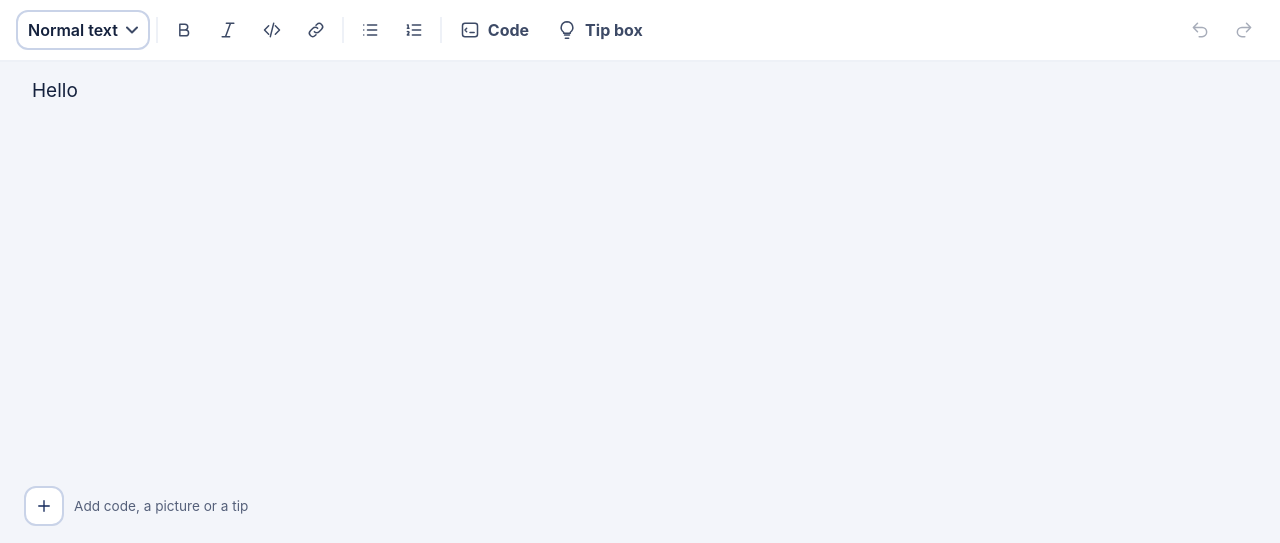
Test: NoteEditor › closes the menu with Escape
Click the button named "Add code, a picture or a tip" at point(44, 506), box [24,486,64,526]
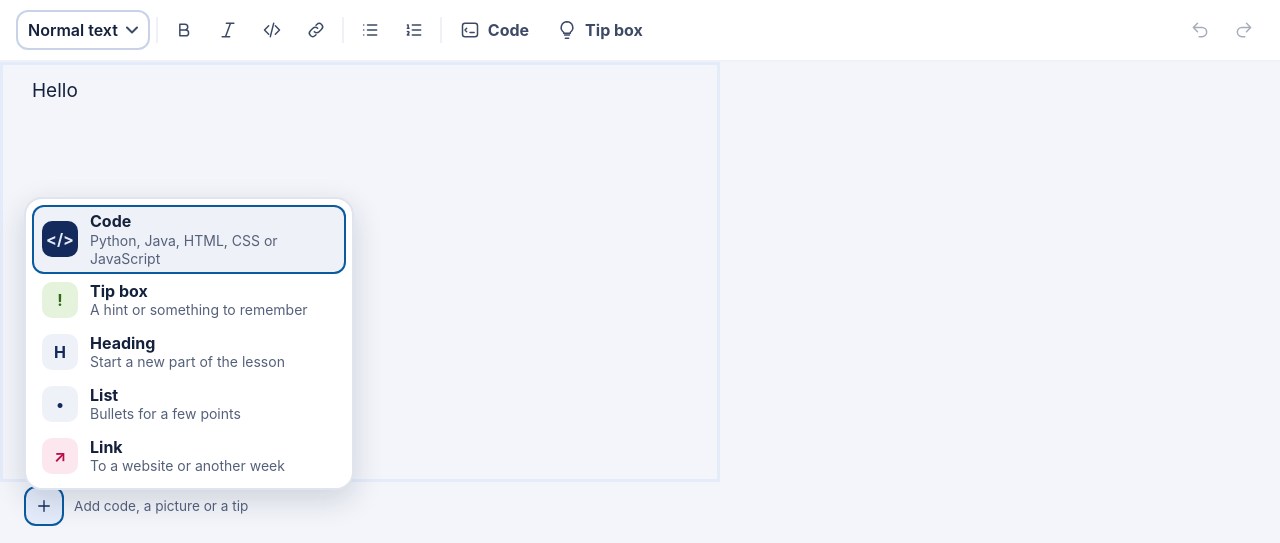
Press Escape in the menu item "</> Code Python, Java, HTML, CSS or JavaScript", box [32,205,346,274]
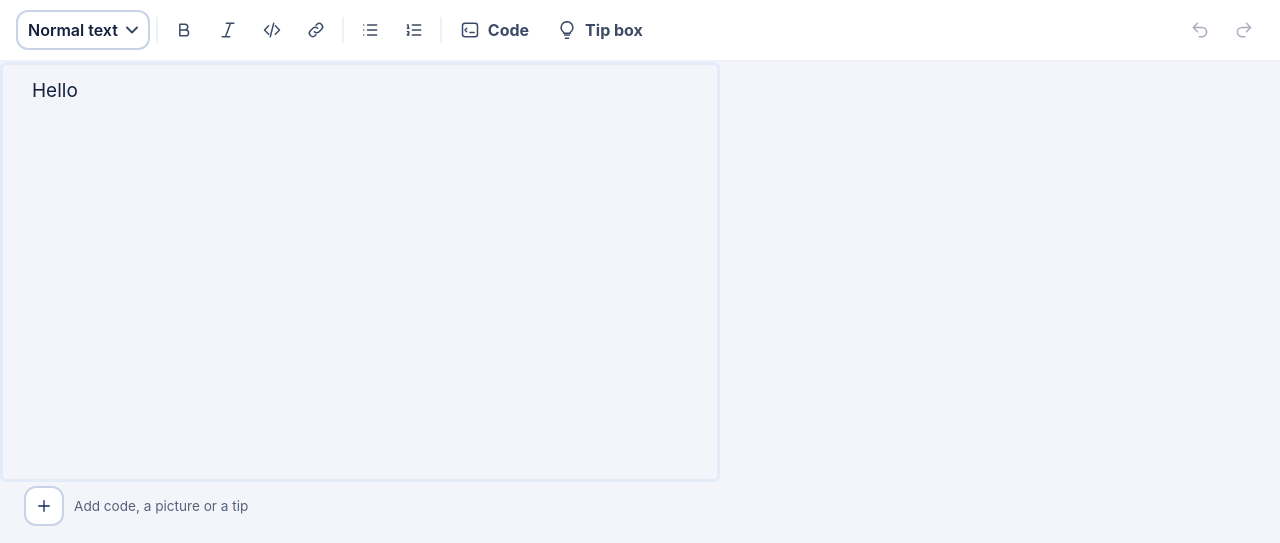
Check: the menu is gone
